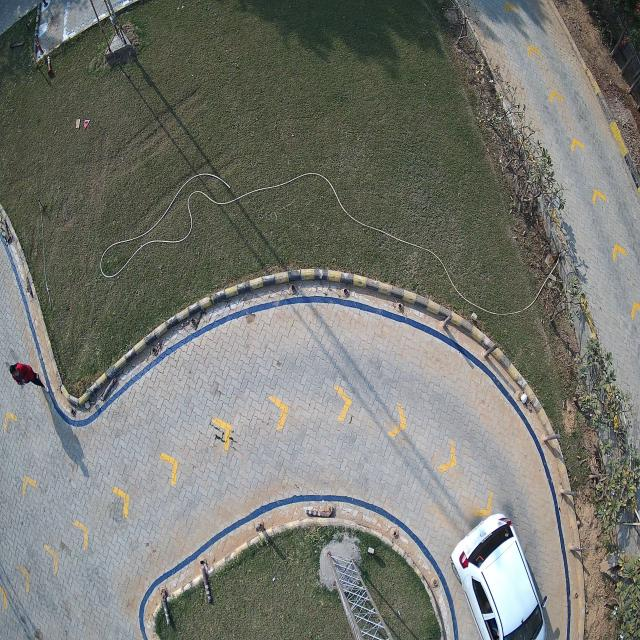car: (451, 516, 548, 640)
